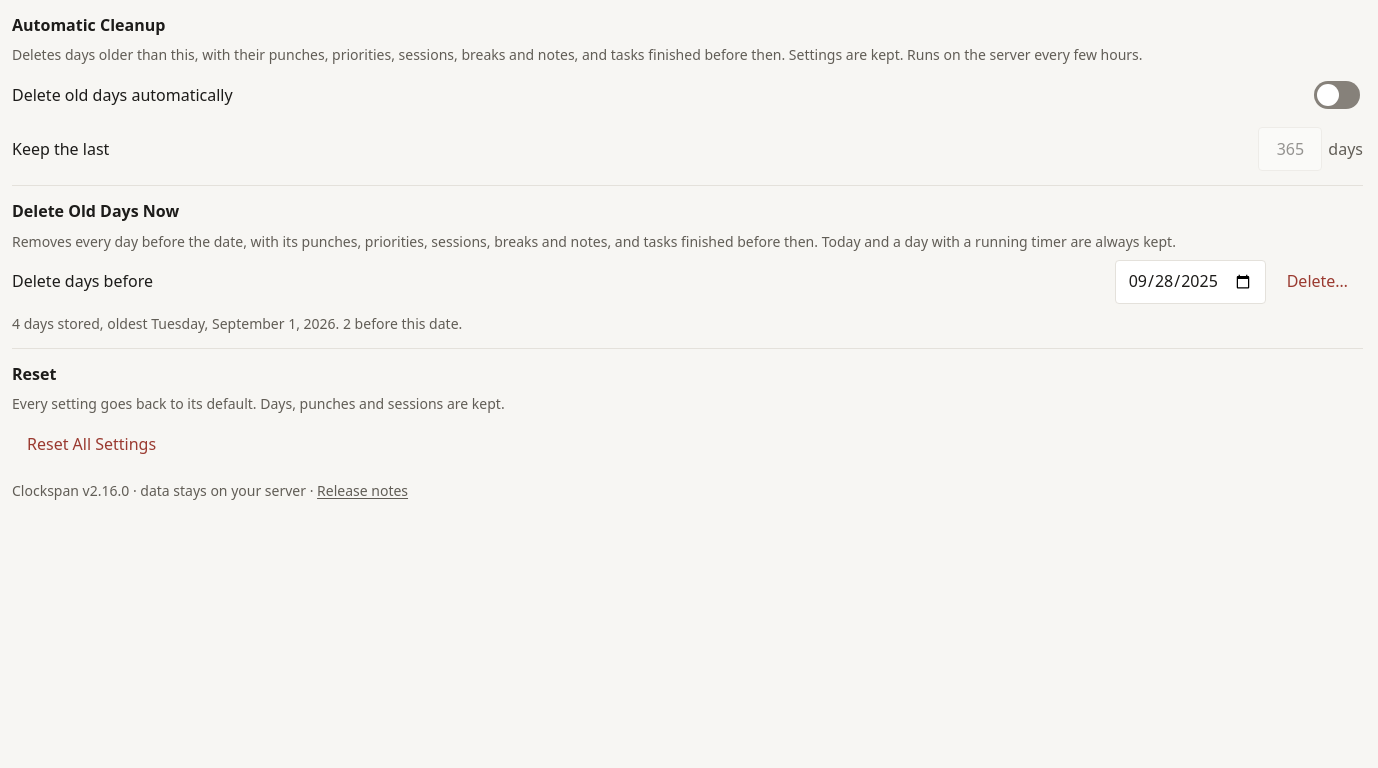
DataTab › keeps the result when the count after a delete fails, with Delete off
Click the button "Delete…" at (1317, 282), box [1272,260,1363,304]
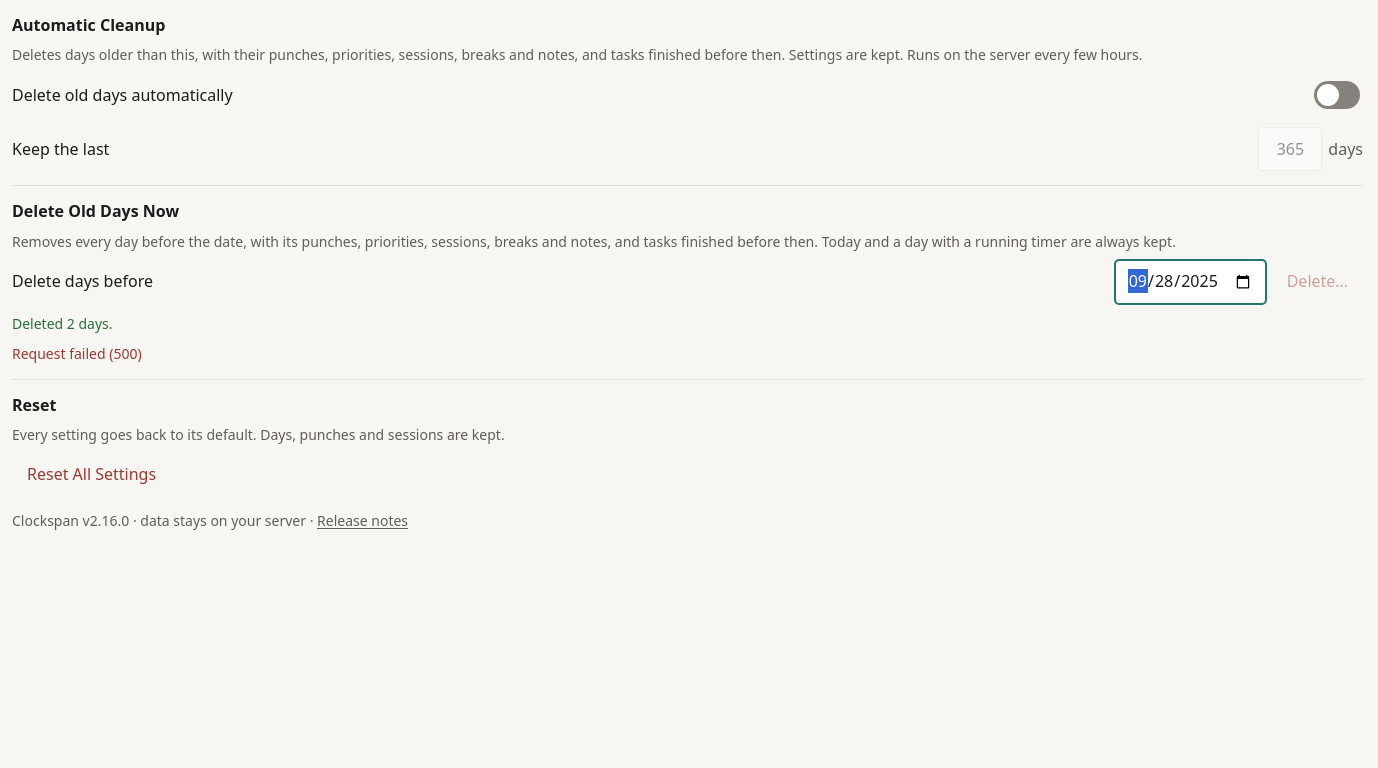
Now the message "Request failed (500)" is shown, box [12,344,142,363]
Now the button "Delete…" is disabled, box [1272,260,1363,304]
